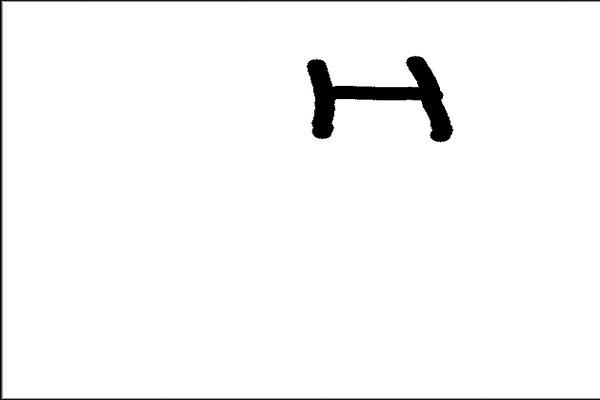H: (302, 51, 456, 145)
